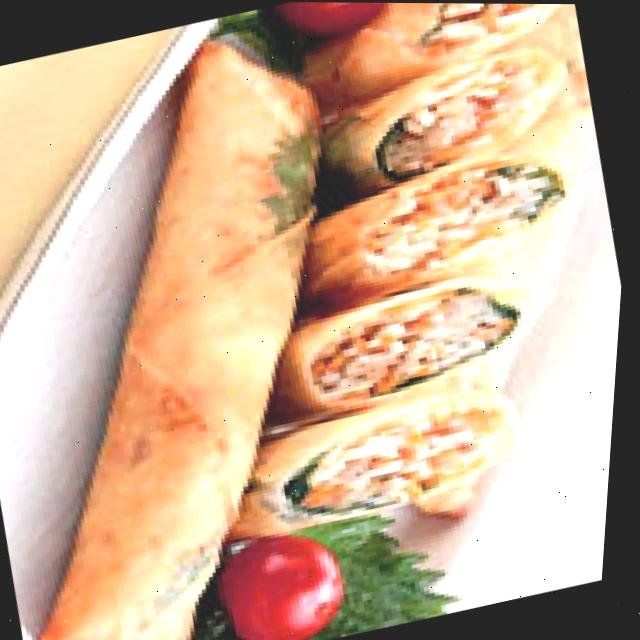鸡蛋料理: (101, 1, 640, 573)
